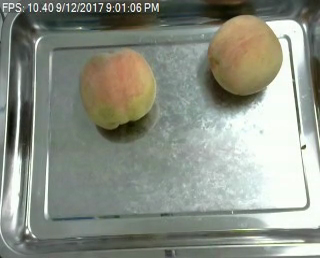Peach: (80, 45, 158, 127), (207, 13, 283, 95)
